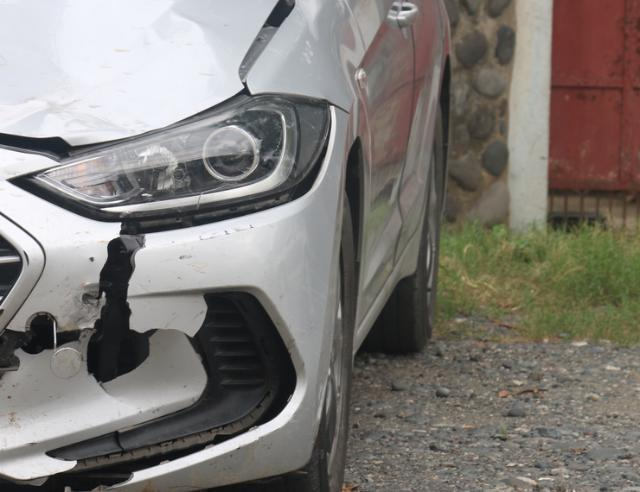Bonnet: (0, 0, 306, 151)
Bumper: (0, 210, 337, 492)
